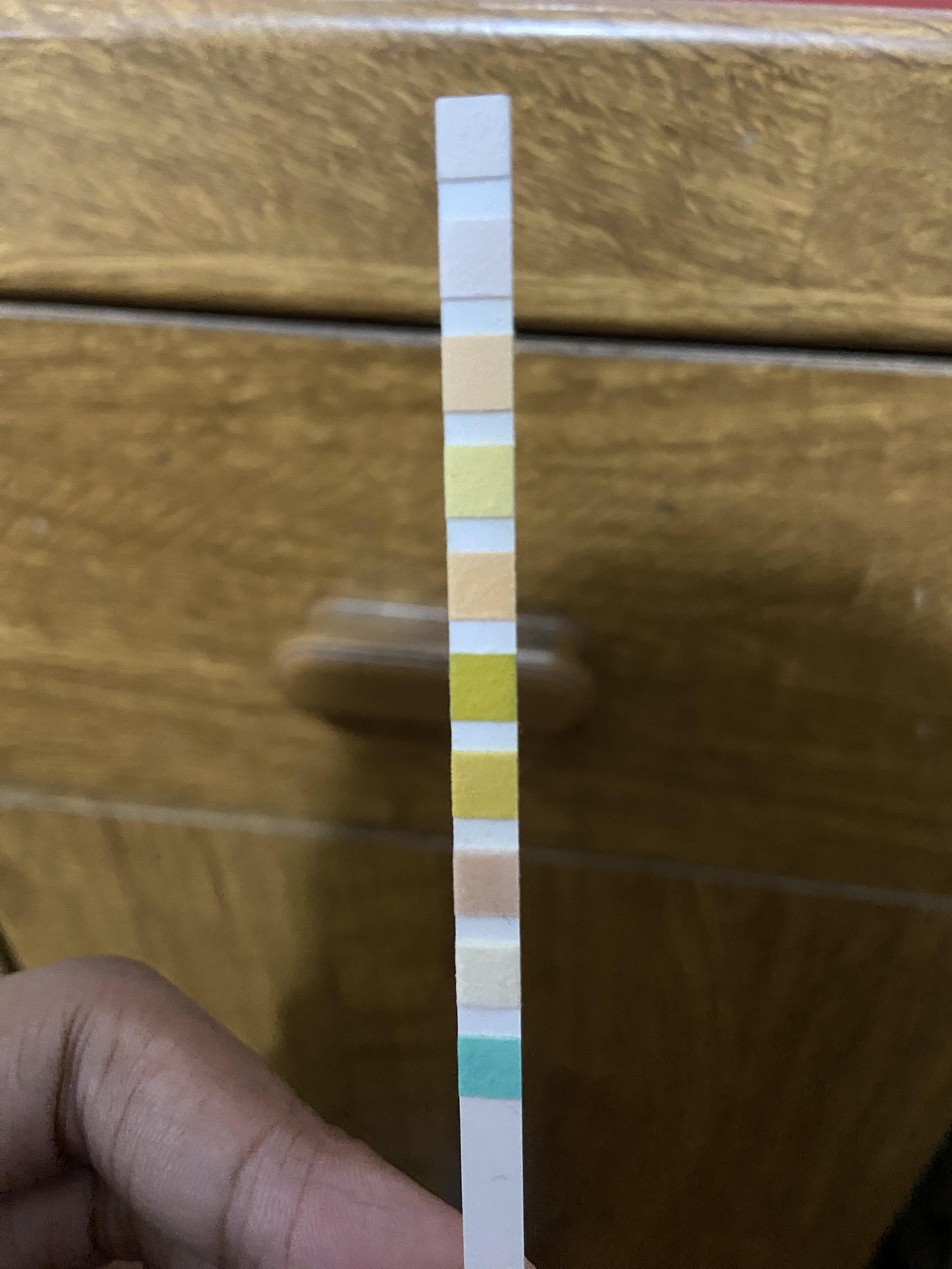Bilirubin: (457, 943, 520, 1007)
Blood: (451, 654, 518, 721)
Glucose: (460, 1037, 520, 1097)
Ketone: (454, 850, 518, 914)
Leukocytes: (437, 99, 508, 175)
Nitrite: (442, 223, 511, 297)
Protein: (446, 445, 513, 515)
SpGravity: (453, 751, 518, 818)
Urobilinogen: (442, 335, 512, 411)
pH: (449, 553, 514, 617)
strip: (438, 98, 523, 1209)
